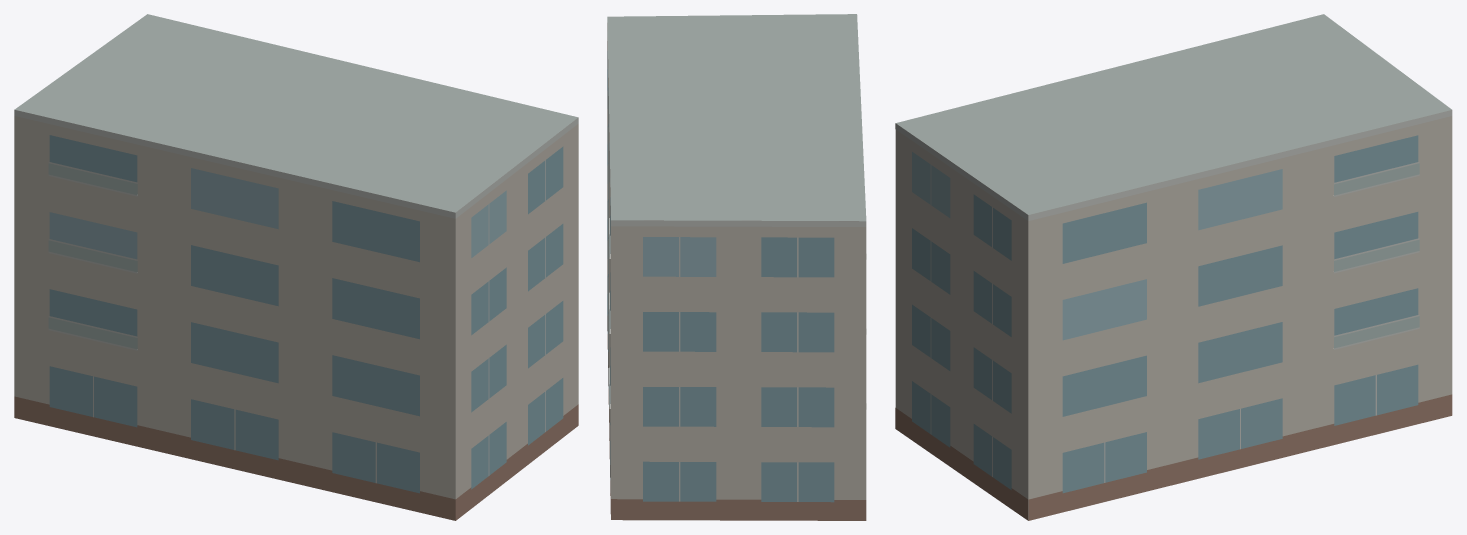
The model's file is survey-upis-32759789.glb.
The picture shows the model from 3 angles, left to right: view 1: azimuth 30°, elevation 25°; view 2: azimuth 150°, elevation 25°; view 3: azimuth 270°, elevation 25°; orthographic projection. The views are drawn at different scales.
Visible parts, largest first — view 1: survey-upis-32759789.tmp; view 2: survey-upis-32759789.tmp; view 3: survey-upis-32759789.tmp.
Boxes of the visible parts, x1,y1,x2,y2 form: survey-upis-32759789.tmp: [14, 14, 578, 520]; survey-upis-32759789.tmp: [607, 14, 866, 520]; survey-upis-32759789.tmp: [895, 14, 1452, 520].
Bounding box in the file's own units: 17.21 × 12.2 × 20.14.
